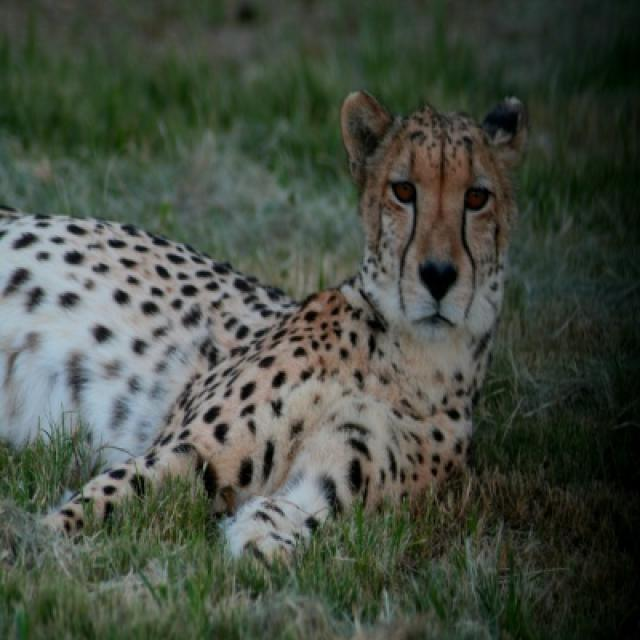Cheetah: (0, 91, 528, 566)
